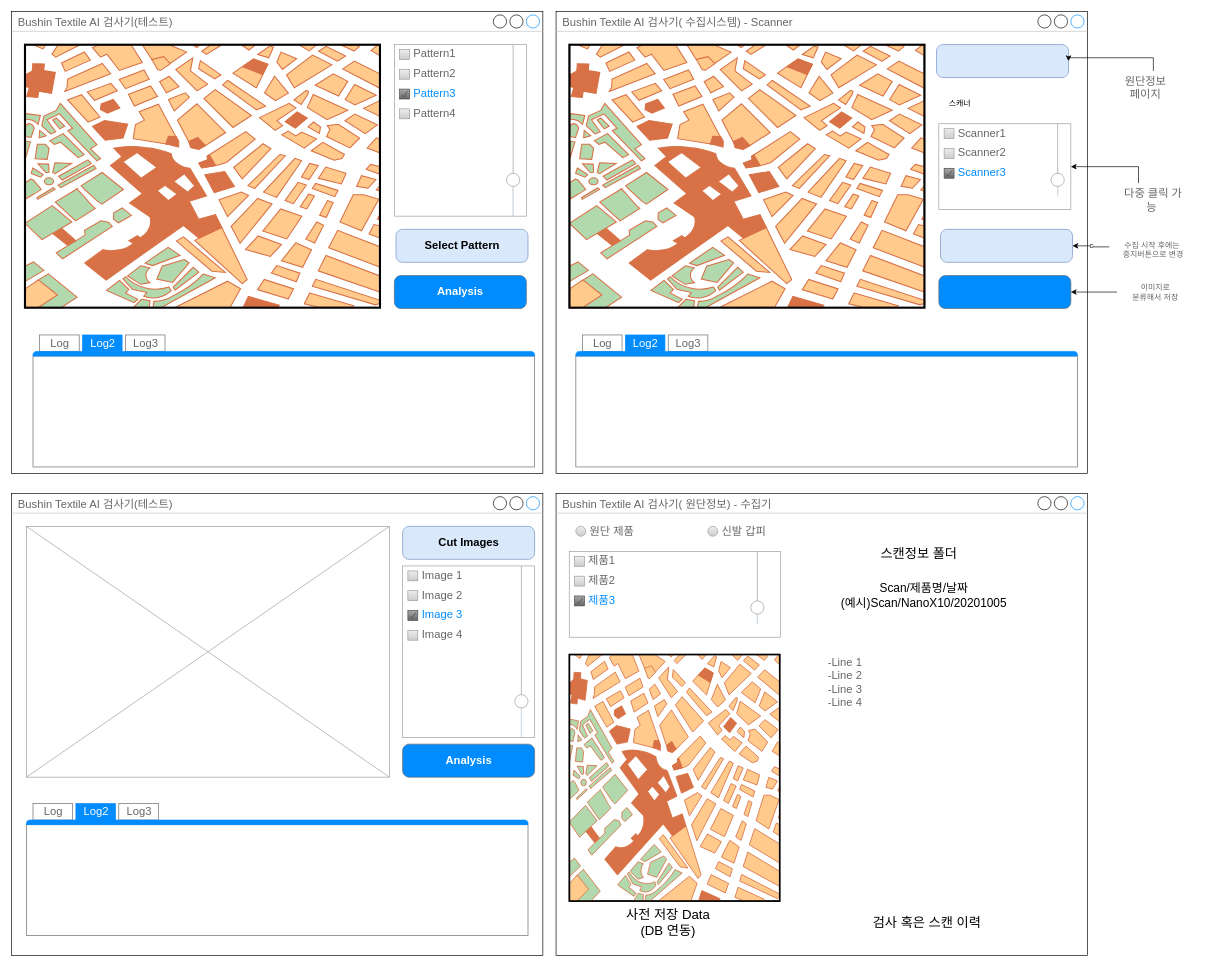
Image size: 1208x967. Some labels were removed from this diagram. The shapes that lost their labels are listed below. From the top down, each one's centre as x and y in pixels, then its label:
(x=1002, y=61): 원단 정보
(x=1006, y=245): 수집 시작
(x=1004, y=292): 수집 분석
(x=674, y=778): 제품 이미지
